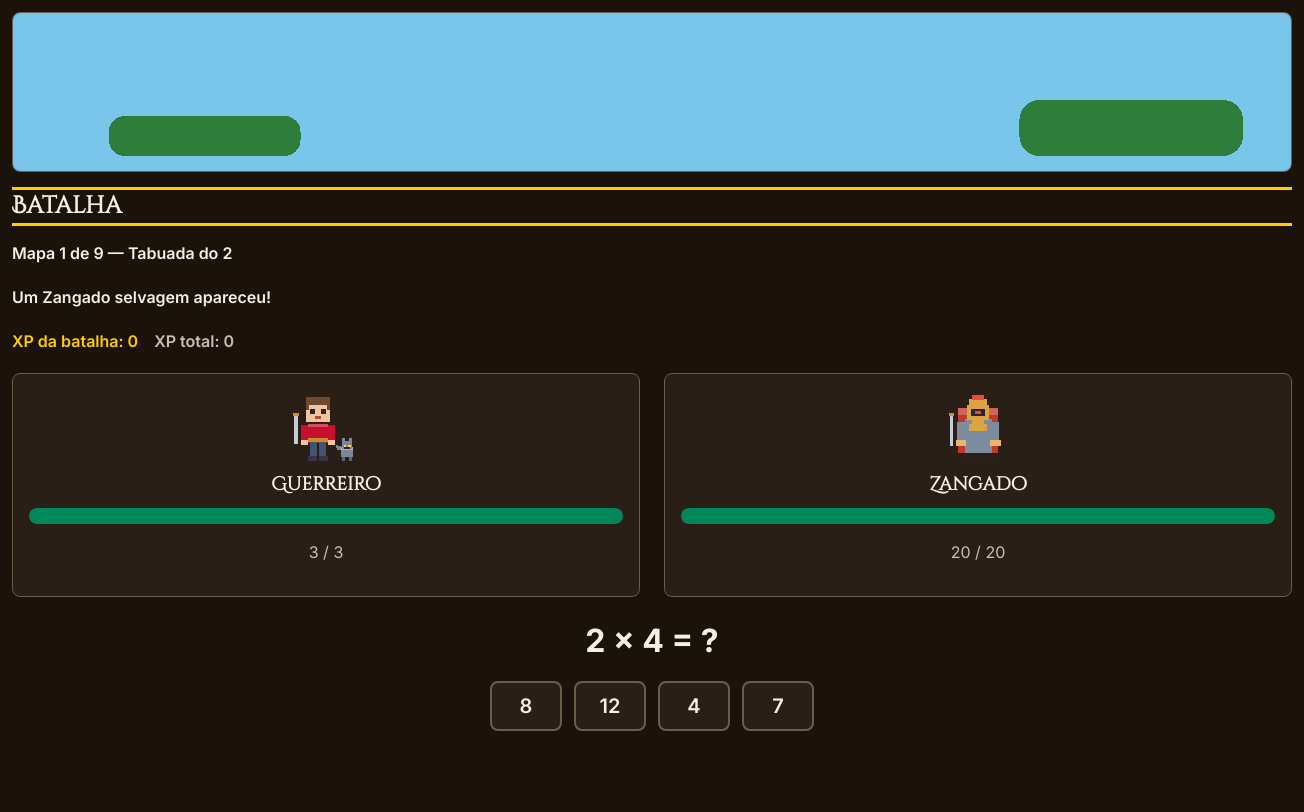
Test: BattleScreen › acertar reduz o HP do Zangado, concede XP e anuncia o dano
Click the button "8". click: (526, 706)
box: x1=490 y1=681 x2=562 y2=731
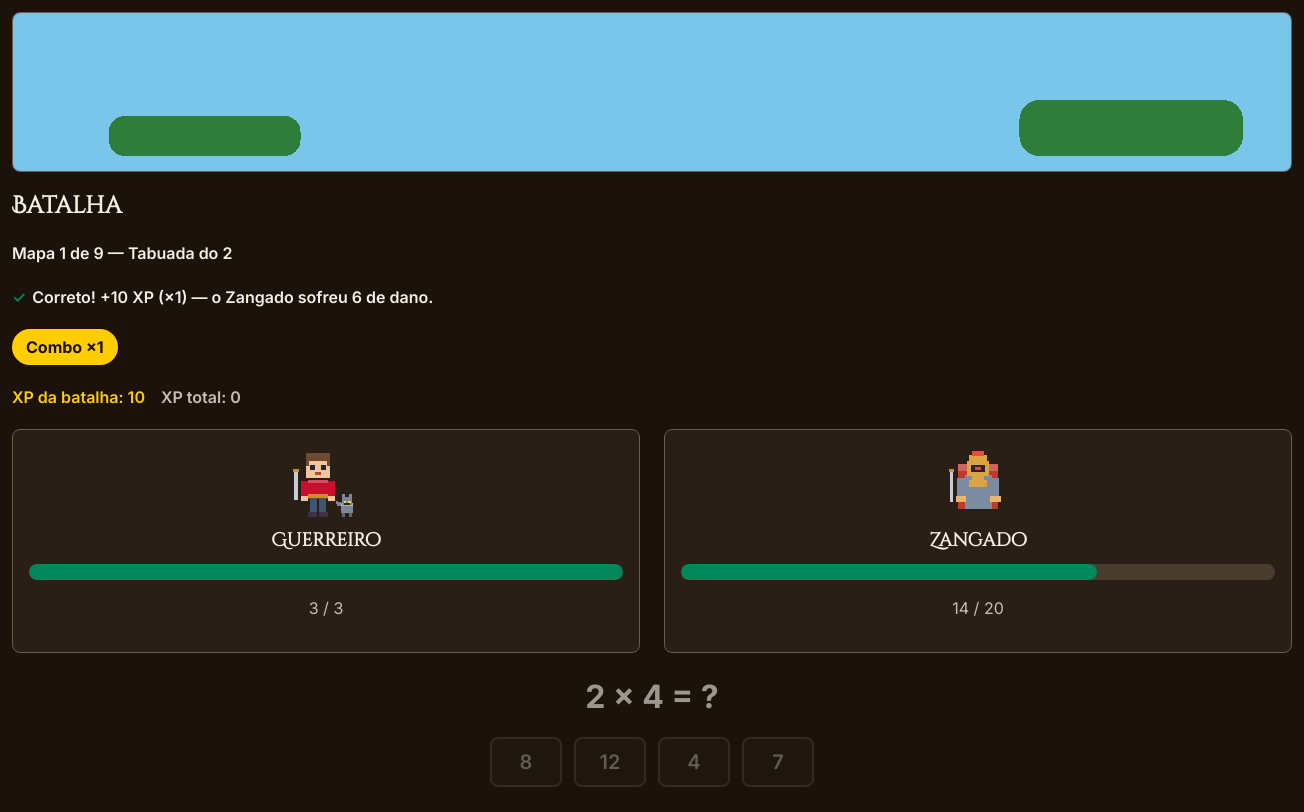
Expected: the message shows "Correto", x1=32 y1=287 x2=433 y2=307
Expected: the message shows "+10 XP", x1=32 y1=287 x2=433 y2=307
Expected: the text "XP da batalha: 10" is shown, x1=12 y1=385 x2=145 y2=409
